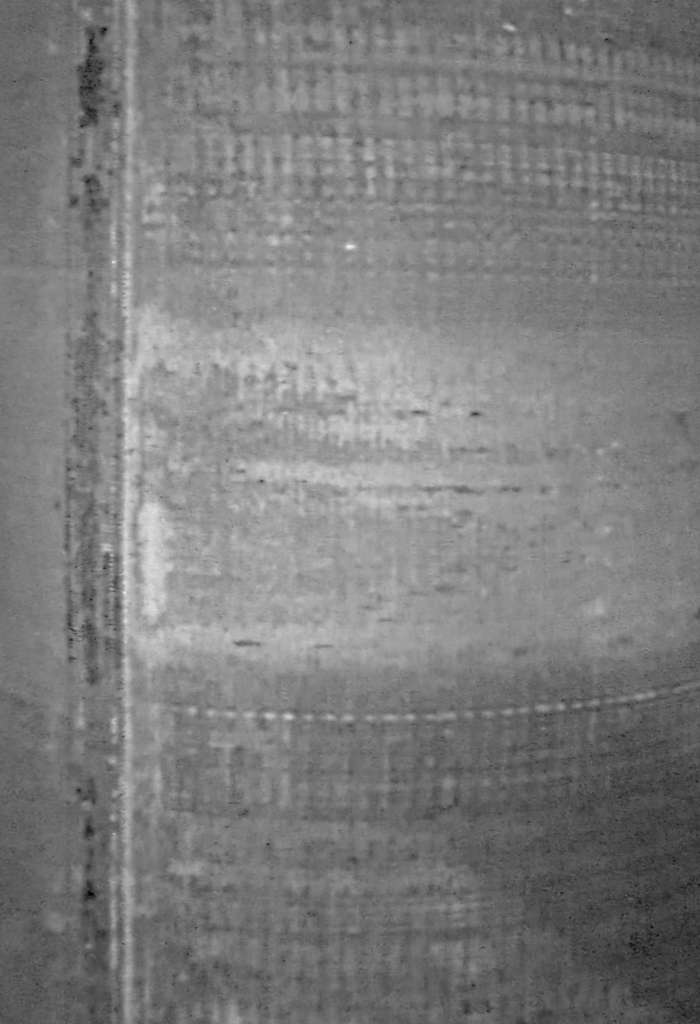splice: (50, 1, 161, 1024)
